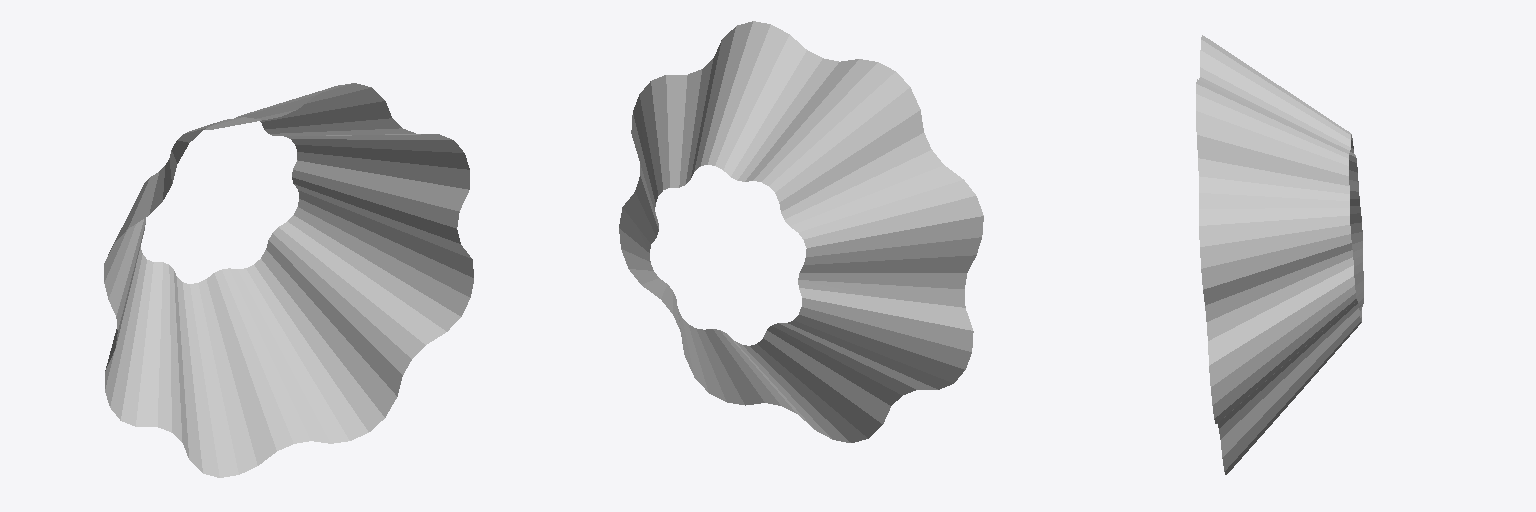
File: skyring2.obj
3 renders of one model, left to right at view 1: azimuth 30°, elevation 25°; view 2: azimuth 150°, elevation 25°; view 3: azimuth 270°, elevation 25°, orthographic.
Parts seen in each view (by area): view 1: Fountain_of__Dreams.004; view 2: Fountain_of__Dreams.004; view 3: Fountain_of__Dreams.004.
Part boxes in pixels (x1,y1,x2,y2): Fountain_of__Dreams.004: (104,83,473,477); Fountain_of__Dreams.004: (619,21,983,442); Fountain_of__Dreams.004: (1196,35,1363,474).
Bounding box in the file's own units: 38.76 × 38.58 × 15.42.